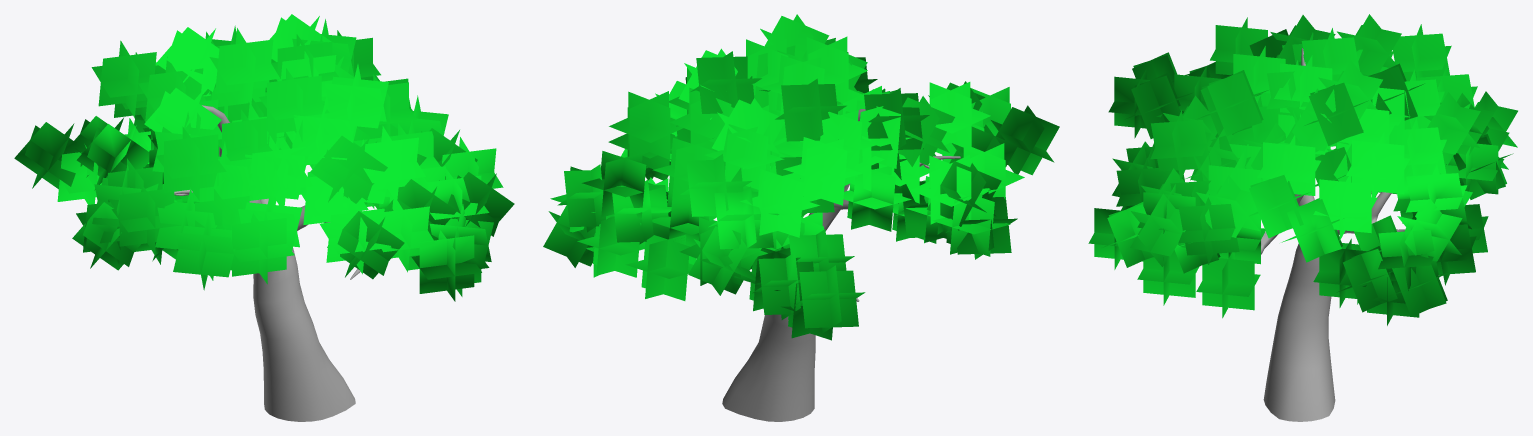
Rendered from MDL_Tree_2.fbx.
3 views of the same model, side by side, from view 1: azimuth 30°, elevation 25°; view 2: azimuth 150°, elevation 25°; view 3: azimuth 270°, elevation 25° (orthographic). The views are drawn at different scales.
Visible parts, largest first — view 1: pPlane2 (×28), pPlane3 (×28), pPlane1 (×26), tree_2; view 2: pPlane1 (×33), pPlane2 (×37), tree_2, pPlane3 (×9); view 3: pPlane1 (×38), pPlane2 (×34), pPlane3 (×21), tree_2.
Part boxes in pixels (bbox=[...]): pPlane2 (×28): bbox=[14, 14, 514, 293]; pPlane3 (×28): bbox=[25, 30, 498, 279]; pPlane1 (×26): bbox=[57, 39, 496, 301]; tree_2: bbox=[174, 105, 360, 421]; pPlane1 (×33): bbox=[564, 39, 1044, 328]; pPlane2 (×37): bbox=[543, 16, 1059, 333]; tree_2: bbox=[722, 109, 960, 421]; pPlane3 (×9): bbox=[577, 113, 990, 255]; pPlane1 (×38): bbox=[1094, 25, 1506, 317]; pPlane2 (×34): bbox=[1116, 14, 1487, 308]; pPlane3 (×21): bbox=[1130, 25, 1504, 296]; tree_2: bbox=[1261, 48, 1405, 421].
Bounding box in the file's own units: 9.18 × 8.27 × 9.21.
